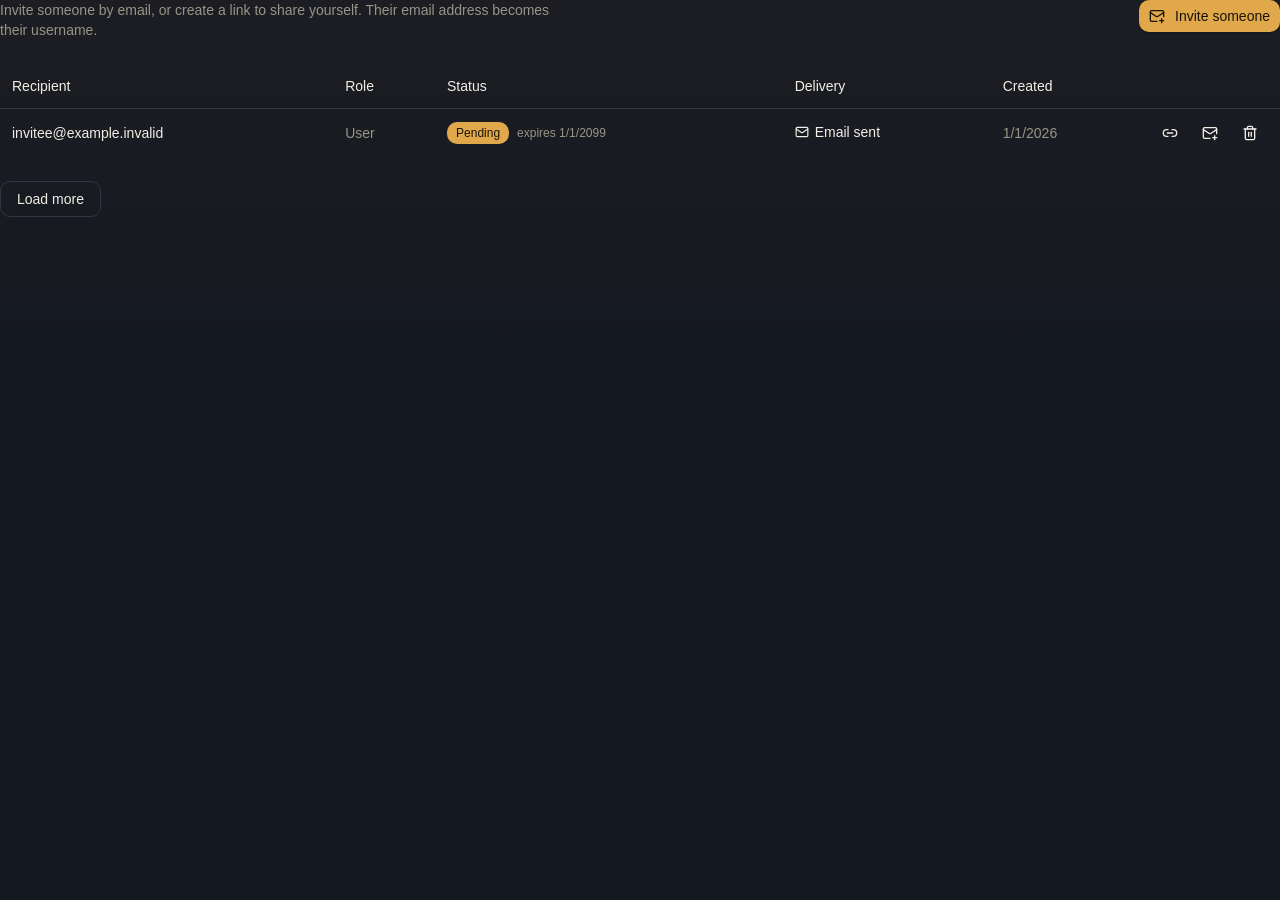
Scenario: retains revoke confirmation and row on failure
Step 1. Click the button titled "Revoke this link" → {"x": 1250, "y": 133}, box top-left (1232, 117), bottom-right (1268, 149)
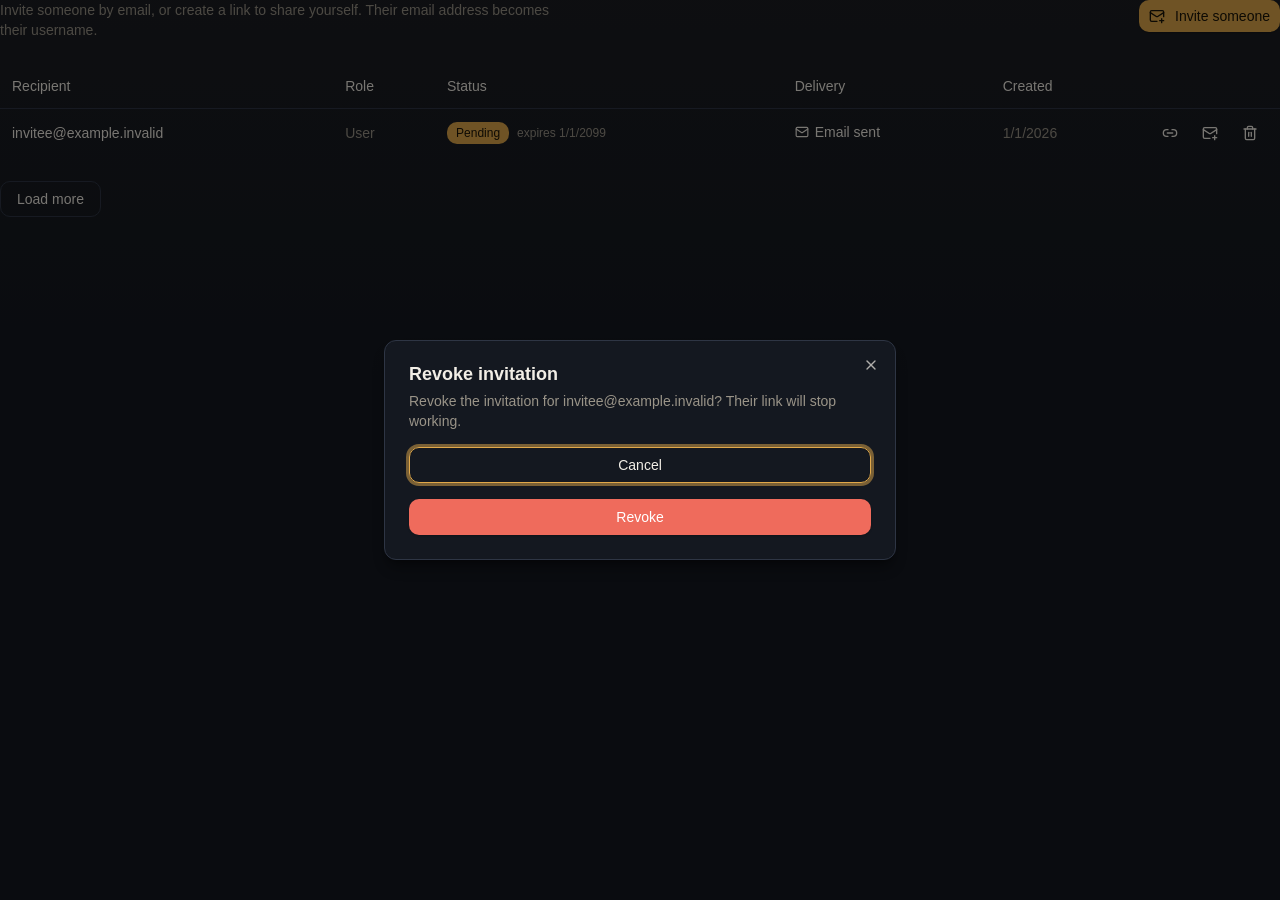
Step 2. Click the button "Revoke" → {"x": 640, "y": 517}, box top-left (409, 499), bottom-right (871, 535)
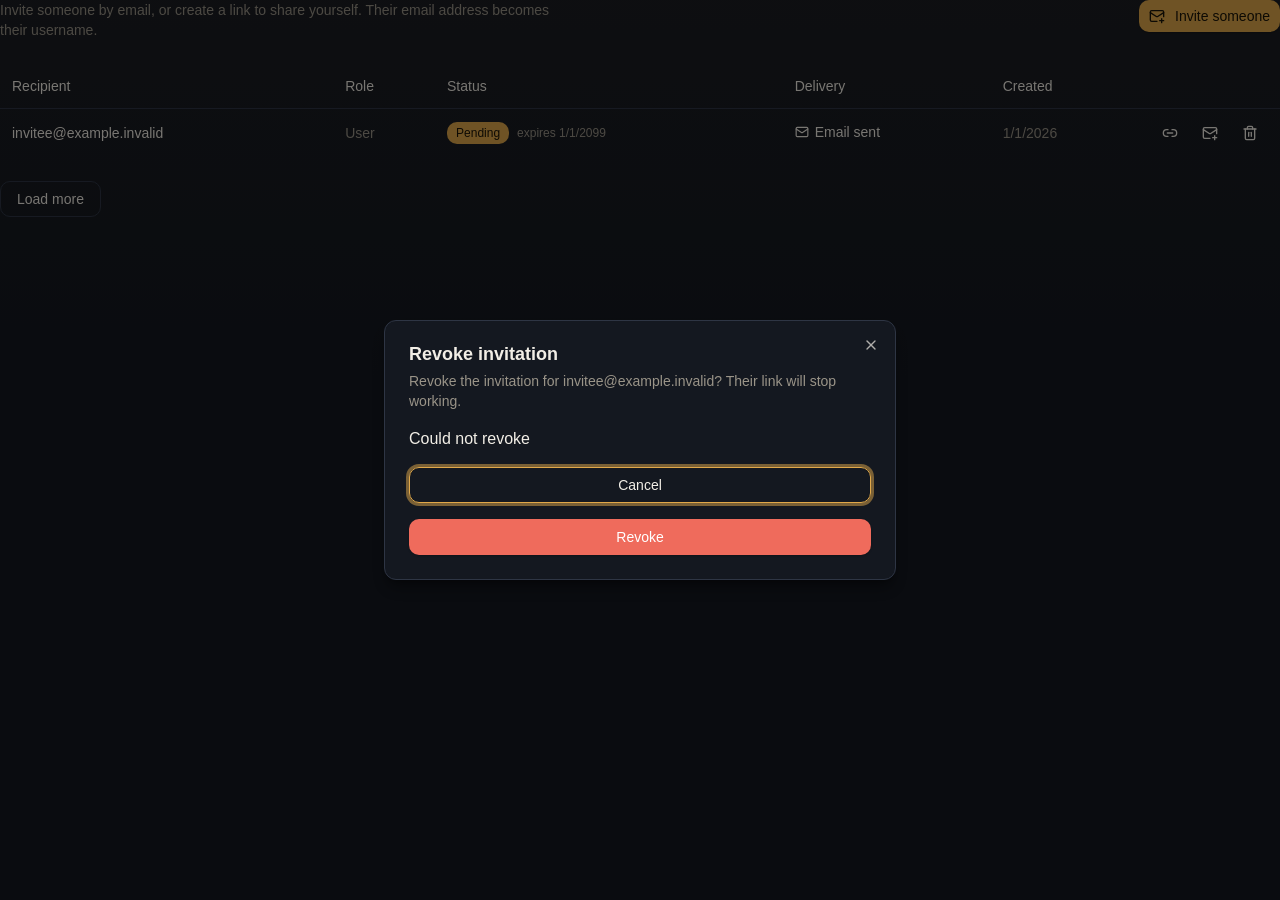
Check: the text "invitee@example.invalid" is shown, box top-left (12, 125), bottom-right (163, 141)
Check: the dialog is shown, box top-left (384, 320), bottom-right (896, 580)
Check: the text "Could not revoke" is shown, box top-left (409, 430), bottom-right (530, 447)
